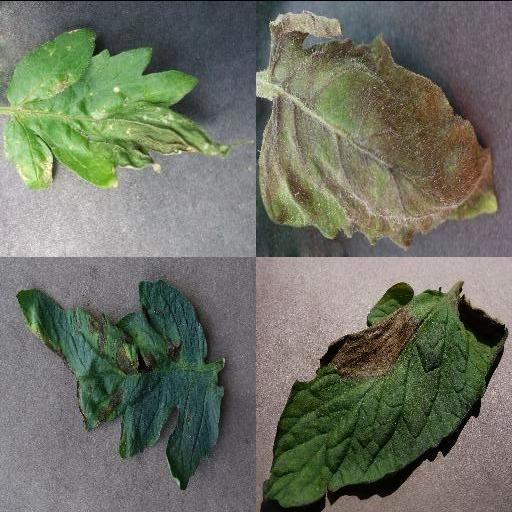Early Blight: (16, 278, 226, 491)
Late Blight: (256, 7, 498, 253), (258, 280, 512, 510), (0, 25, 230, 191)
